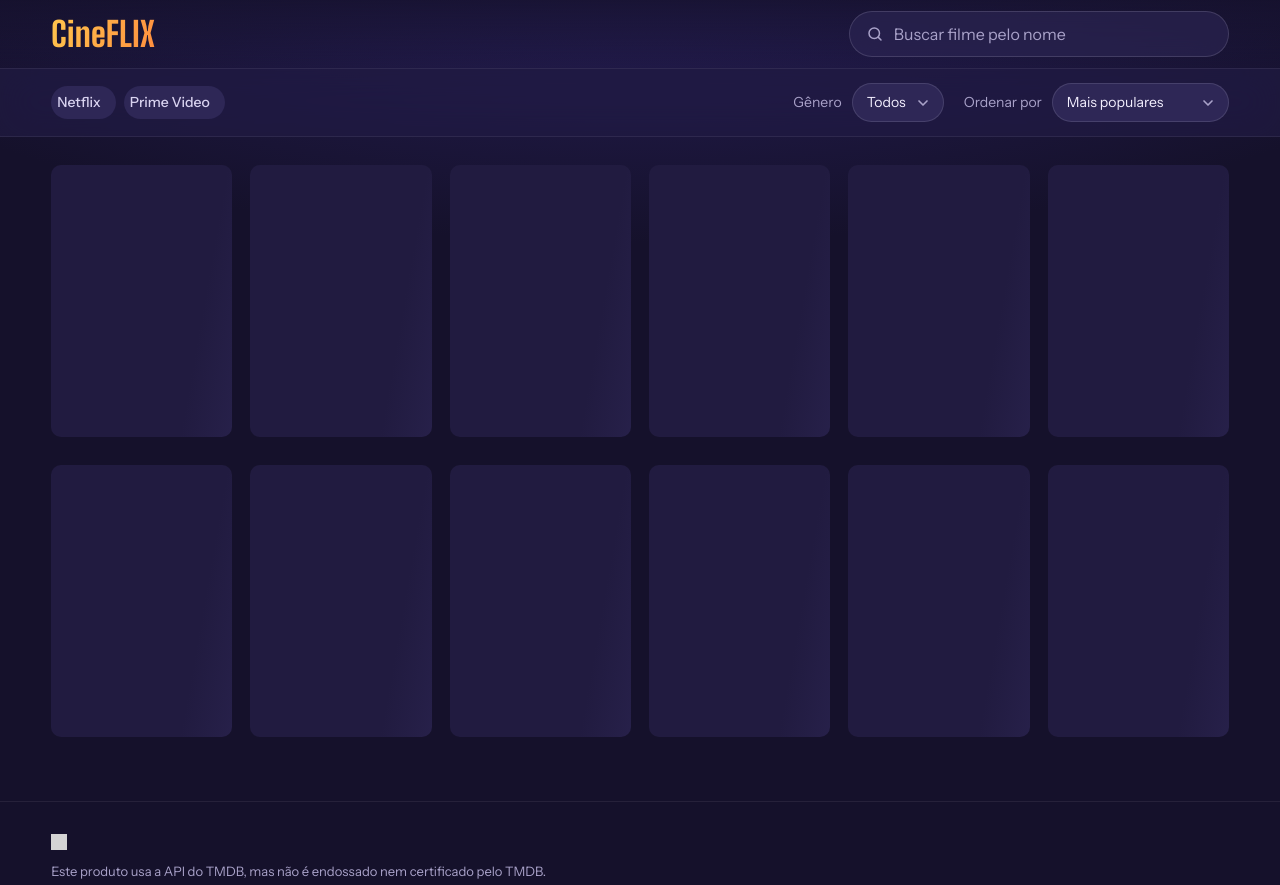
Test: resposta velha que chega depois da nova é descartada
This screenshot has width=1280, height=885.
Click the button "Netflix". click: (83, 102)
box: x1=51 y1=86 x2=116 y2=119
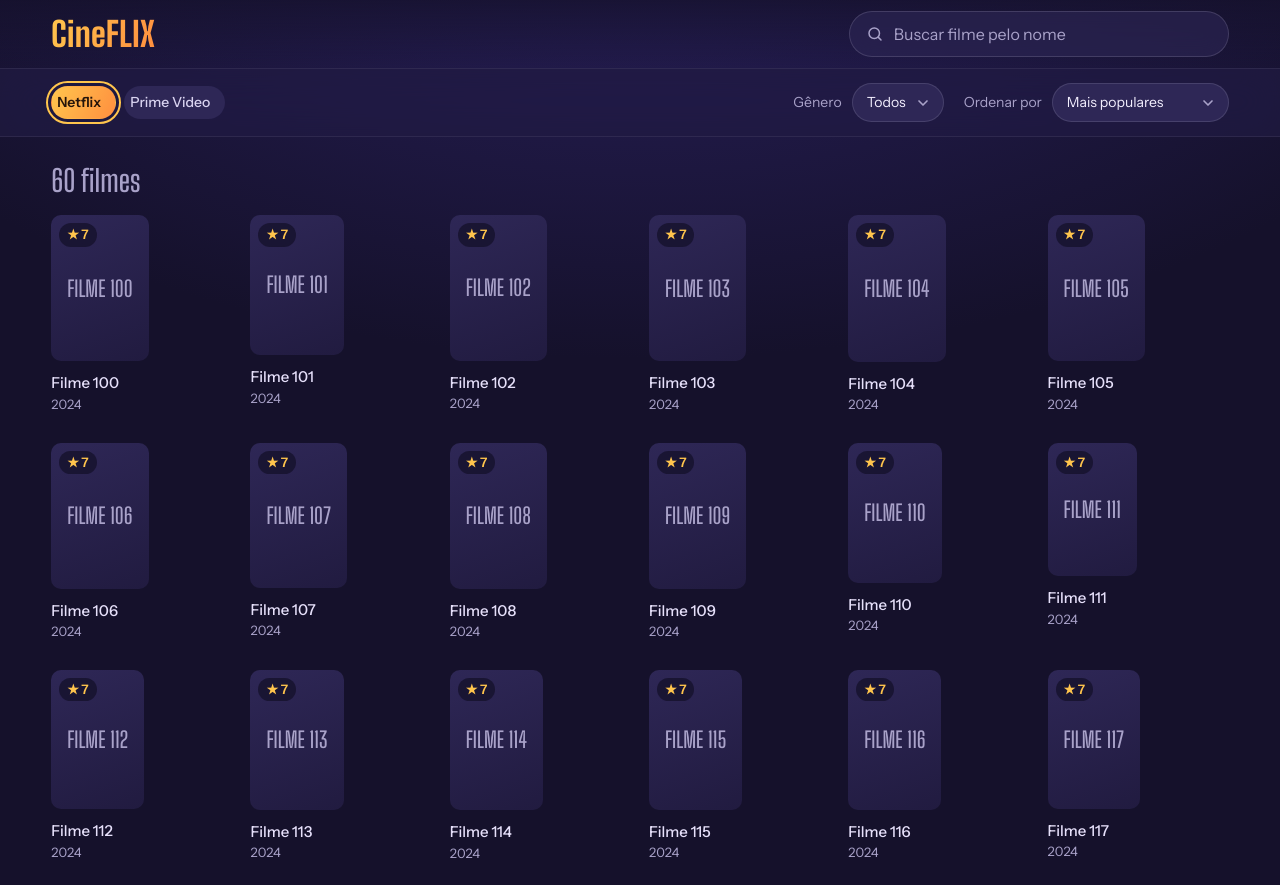
expect the button "Filme 100 ★ 7 Filme 100 2024" is shown: met, box x1=51 y1=215 x2=232 y2=415
